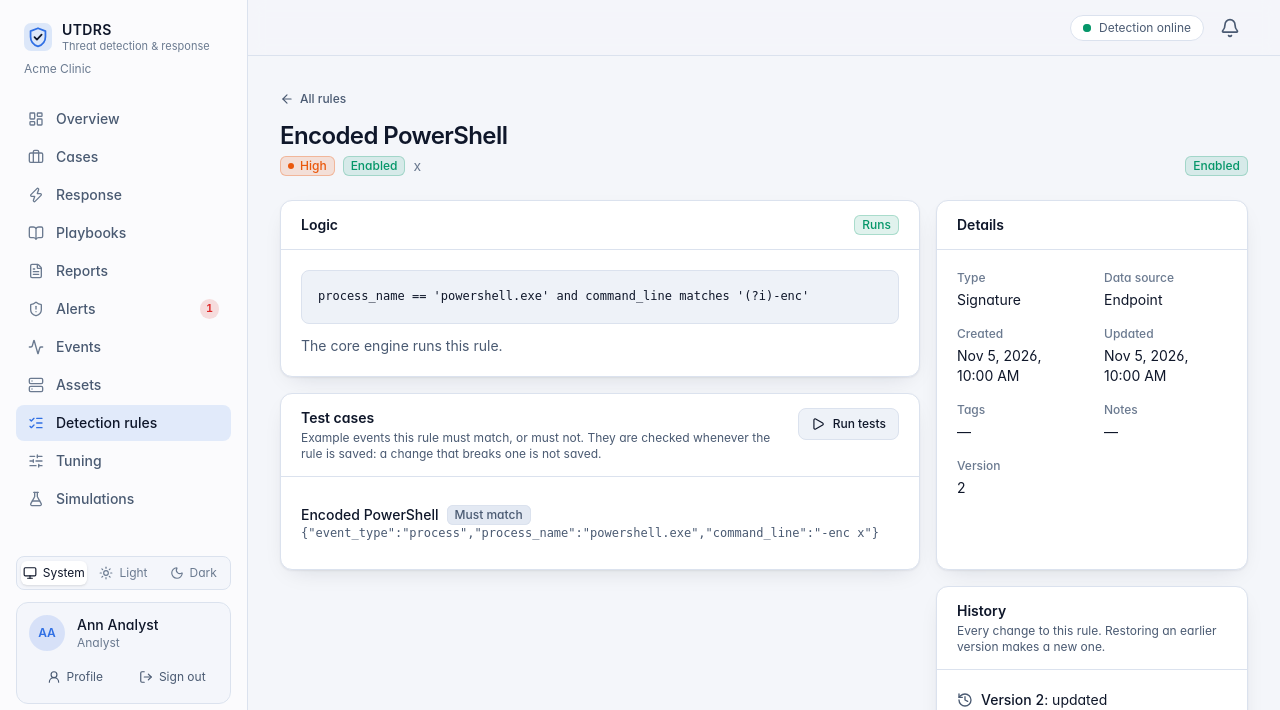
Scenario: rule test cases and history › runs a rule's tests and shows which pass
The image size is (1280, 710).
Expected: the text "Must match" is shown, [446, 504, 531, 524]
Click the button "Run tests" at (848, 424), box [798, 408, 899, 440]
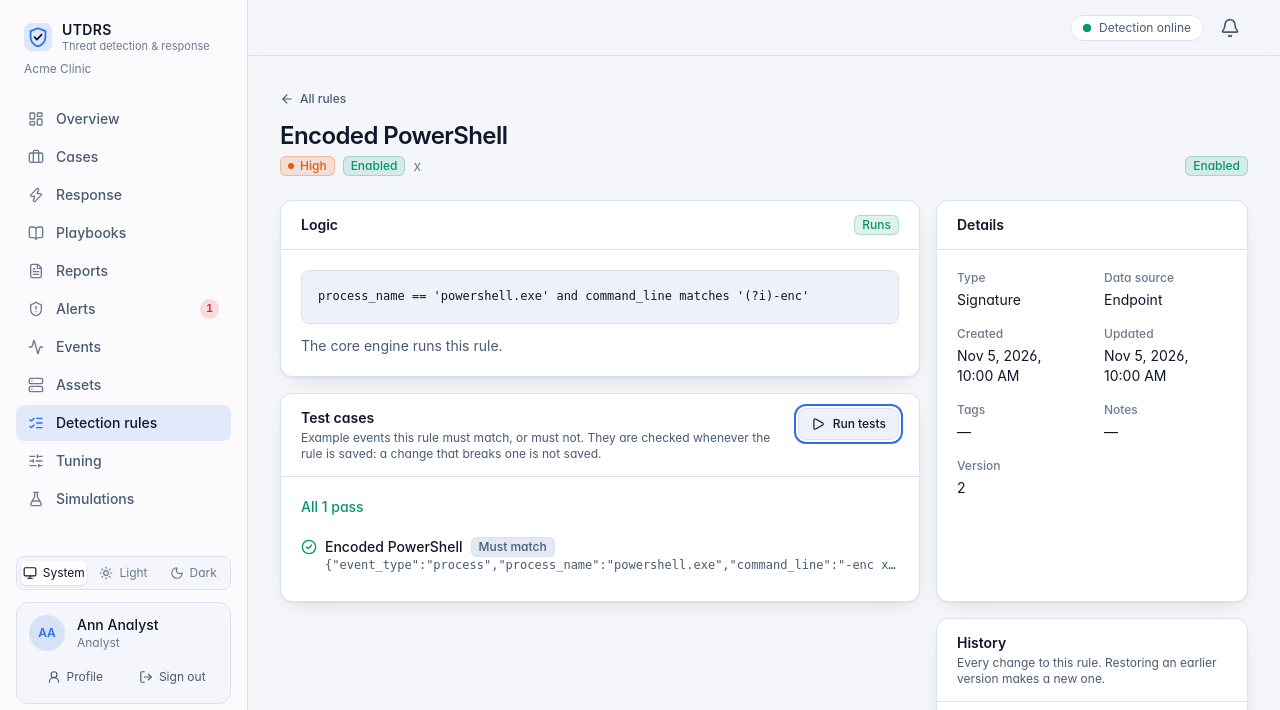
Expected: the text "All 1 pass" is shown, [301, 498, 364, 514]
Expected: the icon named "Passes" is shown, [301, 538, 317, 554]
